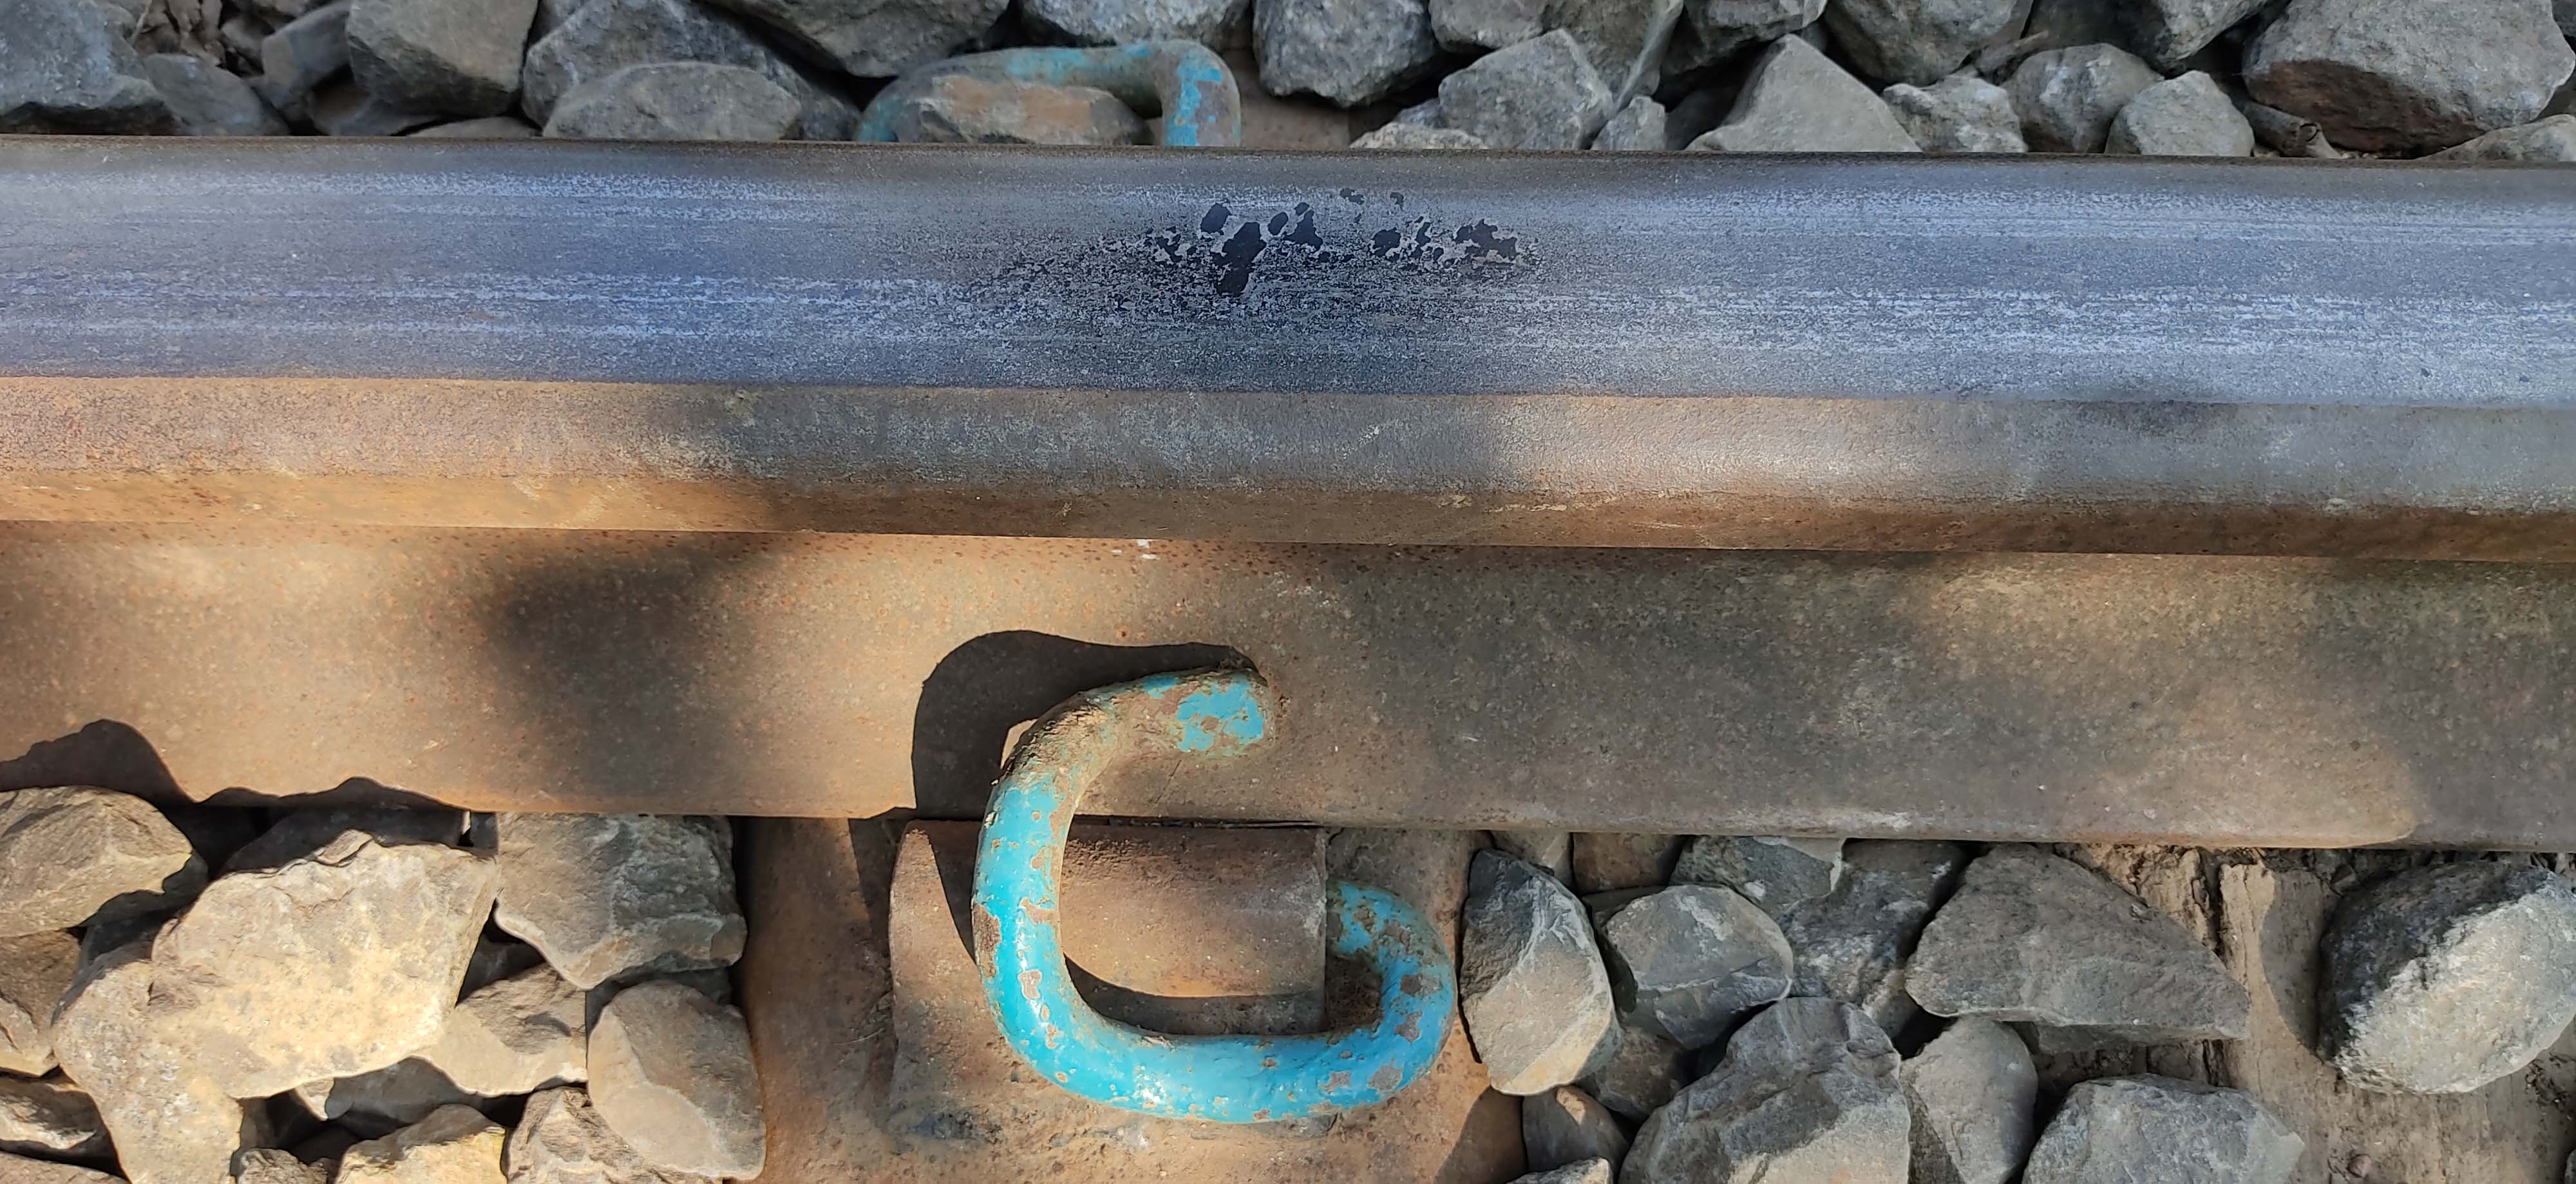error1: (902, 633, 1490, 1149)
